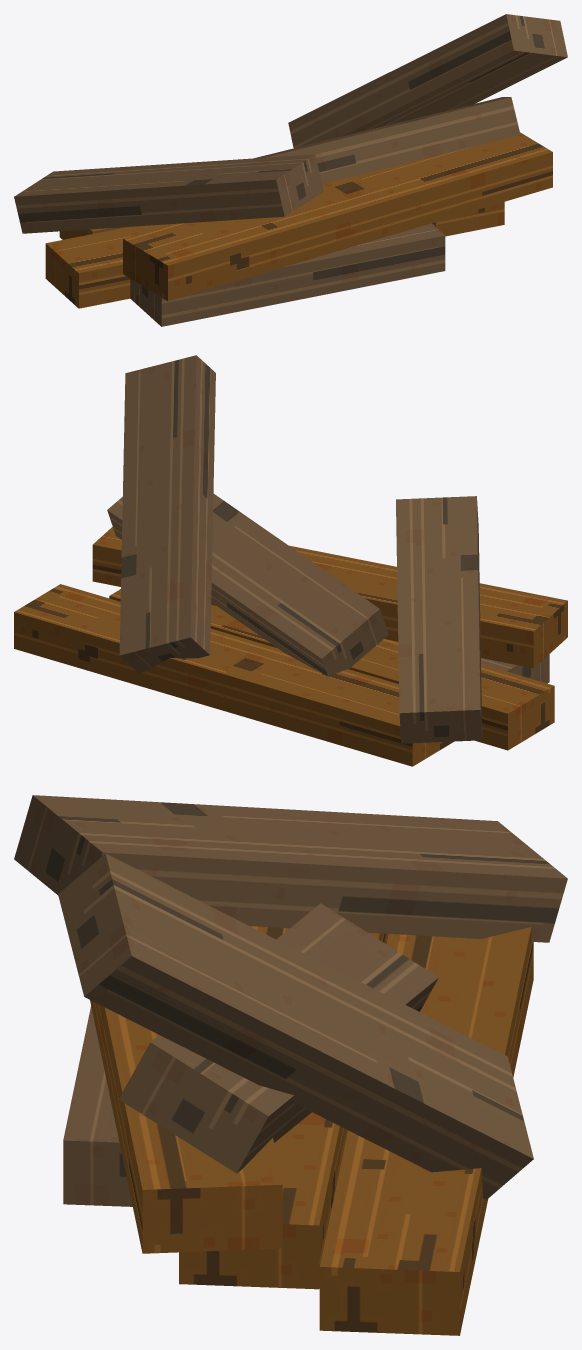
The model's file is C2_Garbage_02-1_v3.FBX.
The picture shows the model from 3 angles, top to bottom: view 1: azimuth 30°, elevation 25°; view 2: azimuth 150°, elevation 25°; view 3: azimuth 270°, elevation 25°; orthographic projection. The views are drawn at different scales.
Visible parts, largest first — view 1: Box061; view 2: Box061; view 3: Box061.
Part boxes in pixels (x1=…): Box061: x1=14, y1=14, x2=567, y2=326; Box061: x1=14, y1=355, x2=567, y2=766; Box061: x1=14, y1=795, x2=567, y2=1335.
Size of the model in its own units: 239 by 113 by 137.
Materials: 1 (1 with a texture image).
